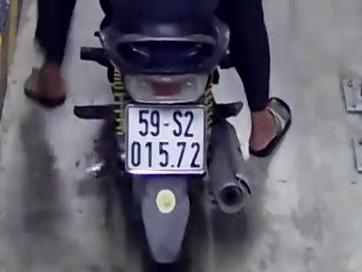num_plate: (124, 103, 206, 176)
